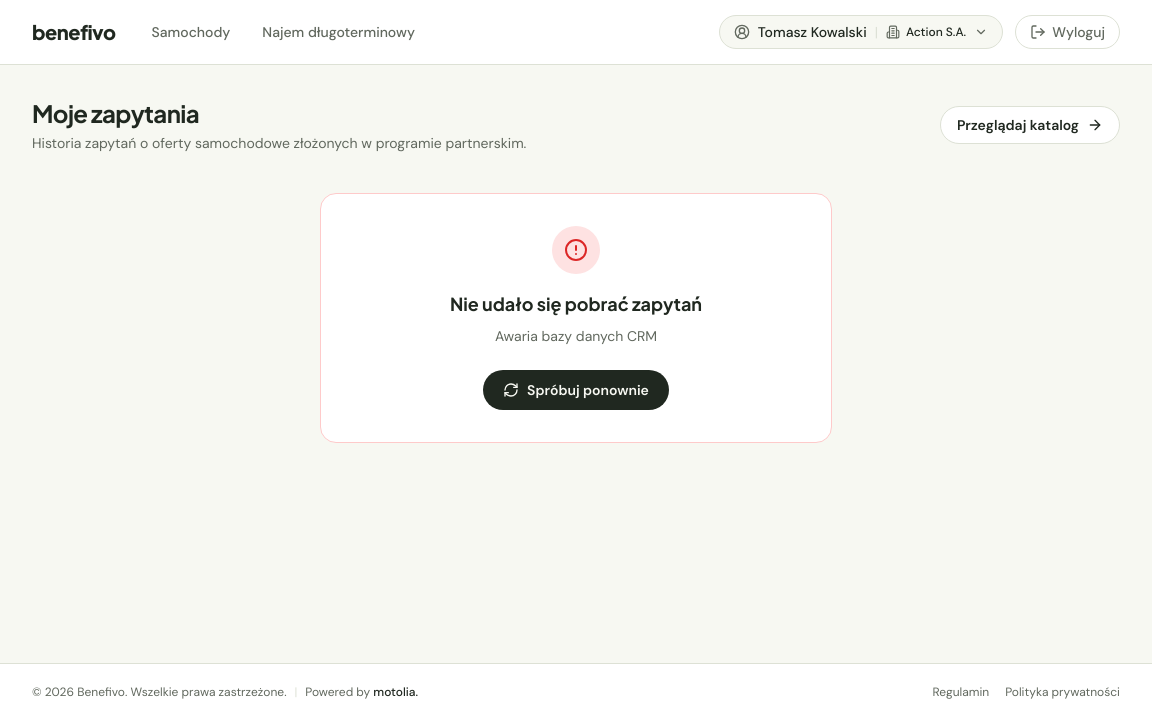
MyInquiriesPage Component › renders error state on API failure and retries loading when retry button is clicked
expect the message shows "Awaria bazy danych CRM": met, box [495,327,657,345]
Click retry button
Click the button "Spróbuj ponownie" at (576, 390), box [483,370,669,410]
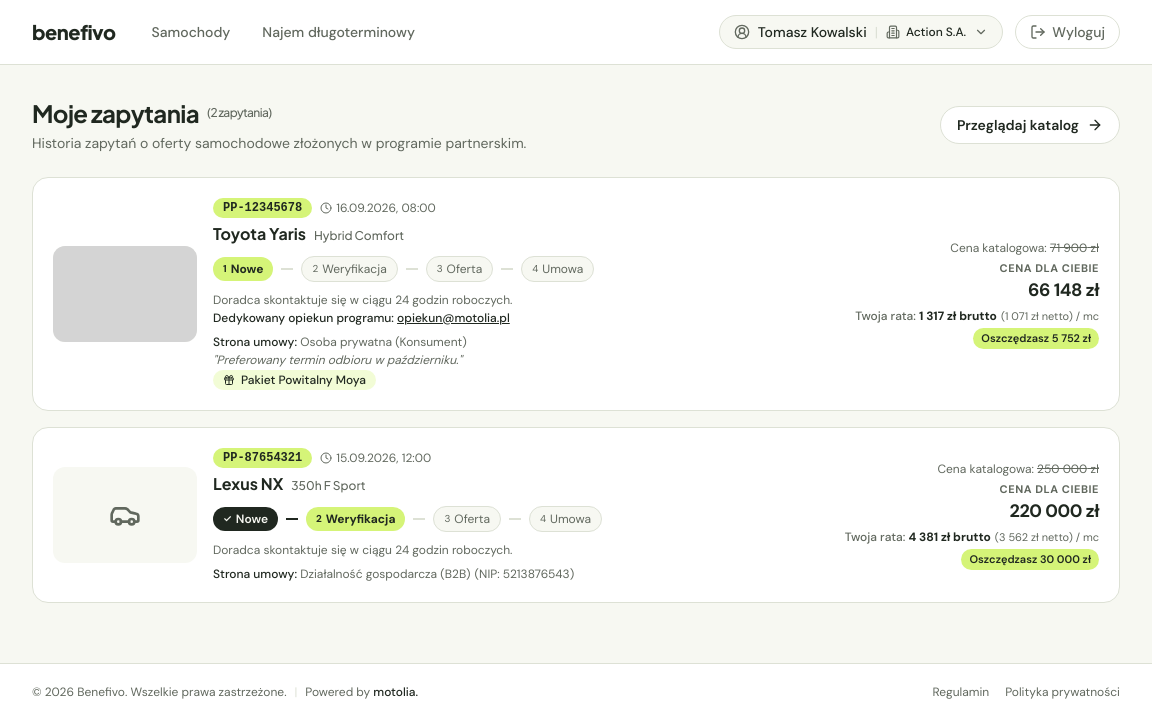
expect the text "PP-12345678" is shown: met, box [213,198,312,218]
